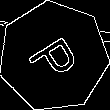P_NE: (22, 28, 85, 85)
